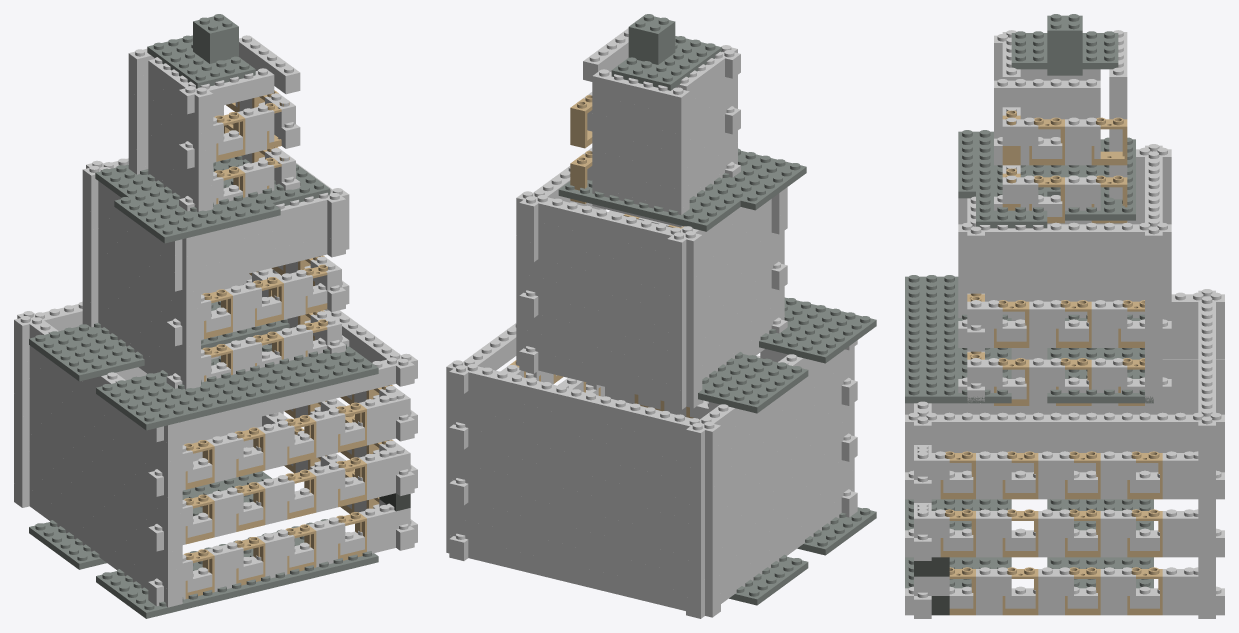
Rendered from 002-generated_tiered_building.glb.
The picture shows the model from 3 angles, left to right: view 1: azimuth 30°, elevation 25°; view 2: azimuth 150°, elevation 25°; view 3: azimuth 270°, elevation 25°; orthographic projection. The views are drawn at different scales.
Visible parts, largest first — view 1: 3009.dat (×83), 3036.dat (×9), 3004.dat (×22), 60592.dat (×15), 3032.dat (×2), 3031.dat (×2), 3003.dat, 3022.dat; view 2: 3009.dat (×108), 3036.dat (×5), 3031.dat (×3), 3032.dat, 60592.dat (×2), 3003.dat, 3022.dat; view 3: 3009.dat (×54), 3004.dat (×26), 3036.dat (×8), 60592.dat (×22), 3031.dat (×3), 3032.dat (×2), 3003.dat (×2), 3022.dat.
Part boxes in pixels (x1=…): 3009.dat (×83): x1=14, y1=35, x2=417, y2=607; 3036.dat (×9): x1=29, y1=178, x2=378, y2=618; 3004.dat (×22): x1=206, y1=93, x2=395, y2=573; 60592.dat (×15): x1=183, y1=112, x2=366, y2=598; 3032.dat (×2): x1=95, y1=164, x2=330, y2=207; 3031.dat (×2): x1=147, y1=35, x2=255, y2=88; 3003.dat: x1=193, y1=27, x2=238, y2=57; 3022.dat: x1=193, y1=14, x2=238, y2=39; 3009.dat (×108): x1=446, y1=28, x2=854, y2=618; 3036.dat (×5): x1=698, y1=148, x2=876, y2=605; 3031.dat (×3): x1=558, y1=36, x2=721, y2=209; 3032.dat: x1=617, y1=190, x2=740, y2=231; 60592.dat (×2): x1=570, y1=95, x2=592, y2=203; 3003.dat: x1=628, y1=28, x2=675, y2=58; 3022.dat: x1=628, y1=14, x2=675, y2=39; 3009.dat (×54): x1=905, y1=30, x2=1224, y2=618; 3004.dat (×26): x1=914, y1=117, x2=1198, y2=595; 3036.dat (×8): x1=905, y1=130, x2=1153, y2=588; 60592.dat (×22): x1=940, y1=110, x2=1162, y2=615; 3031.dat (×3): x1=1011, y1=31, x2=1135, y2=220; 3032.dat (×2): x1=976, y1=137, x2=1135, y2=228; 3003.dat (×2): x1=1047, y1=37, x2=1082, y2=75; 3022.dat: x1=1047, y1=14, x2=1082, y2=37.
Size of the model in its own units: 0.152 by 0.2672 by 0.144.
